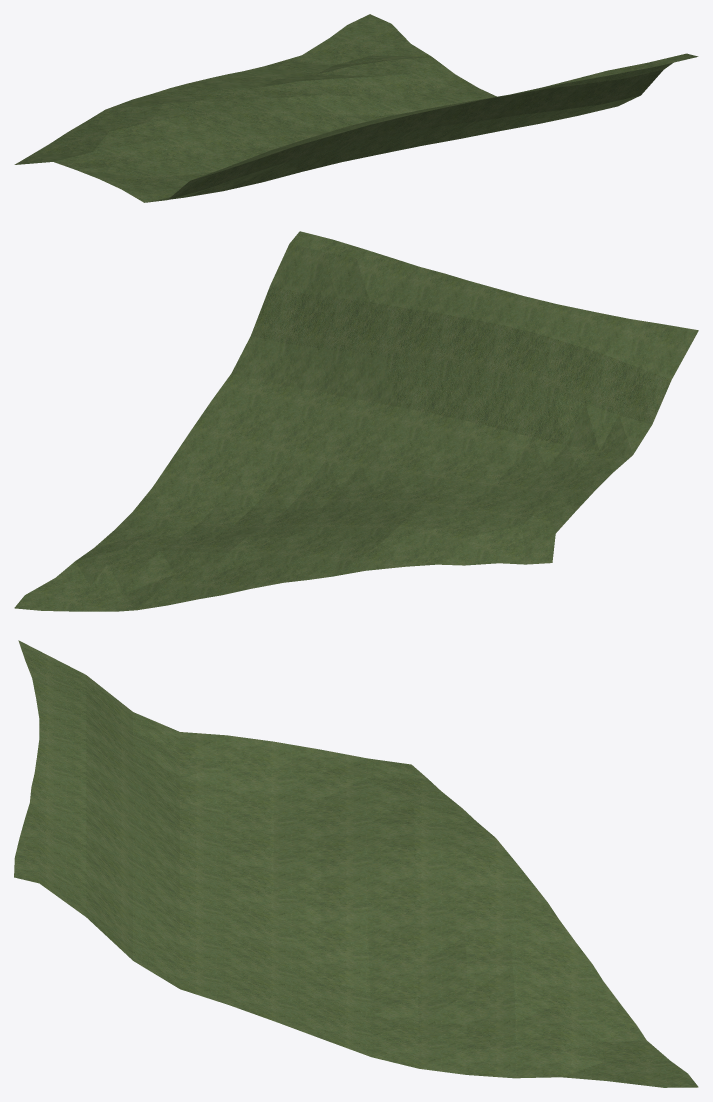
Rendered from a_carisle_mid_landmass_00_05.fbx.
3 renders of one model, top to bottom at view 1: azimuth 30°, elevation 25°; view 2: azimuth 150°, elevation 25°; view 3: azimuth 270°, elevation 25°, orthographic. The views are drawn at different scales.
Visible parts, largest first — view 1: a_carisle_mid_landmass_00_05; view 2: a_carisle_mid_landmass_00_05; view 3: a_carisle_mid_landmass_00_05.
Part boxes in pixels (box(x1,y1,x2,y2)): a_carisle_mid_landmass_00_05: box(14, 14, 698, 202); a_carisle_mid_landmass_00_05: box(14, 231, 698, 611); a_carisle_mid_landmass_00_05: box(14, 640, 698, 1087).
Size of the model in its own units: 28.95 by 33.39 by 11.22.
